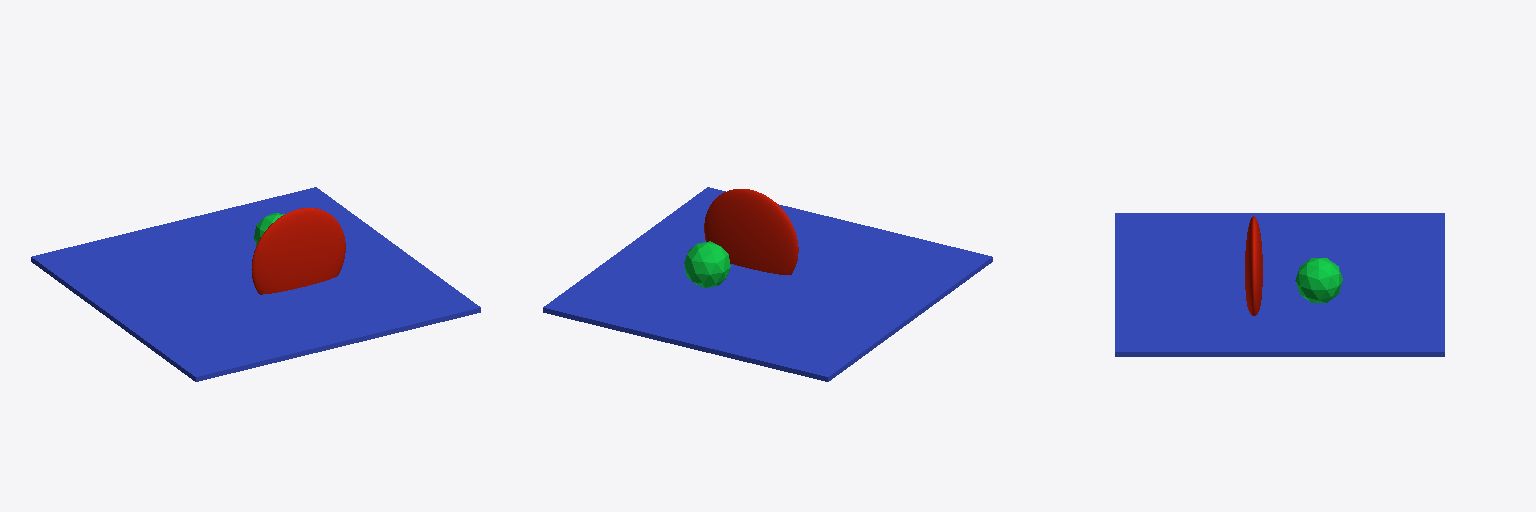
Rendered from vsk.obj.
The picture shows the model from 3 angles: view 1: azimuth 30°, elevation 25°; view 2: azimuth 150°, elevation 25°; view 3: azimuth 270°, elevation 25°; orthographic projection.
Visible parts, largest first — view 1: Plane_Plane.001, Sphere; view 2: Plane_Plane.001, Sphere, Icosphere; view 3: Plane_Plane.001, Icosphere, Sphere.
Boxes of the visible parts, x1,y1,x2,y2 form: Plane_Plane.001: [31, 187, 480, 381]; Sphere: [251, 208, 345, 294]; Plane_Plane.001: [543, 187, 992, 381]; Sphere: [704, 189, 798, 274]; Icosphere: [684, 241, 730, 287]; Plane_Plane.001: [1115, 213, 1444, 356]; Icosphere: [1295, 258, 1342, 302]; Sphere: [1245, 216, 1262, 315].
Size of the model in its own units: 6 by 1.97 by 6.